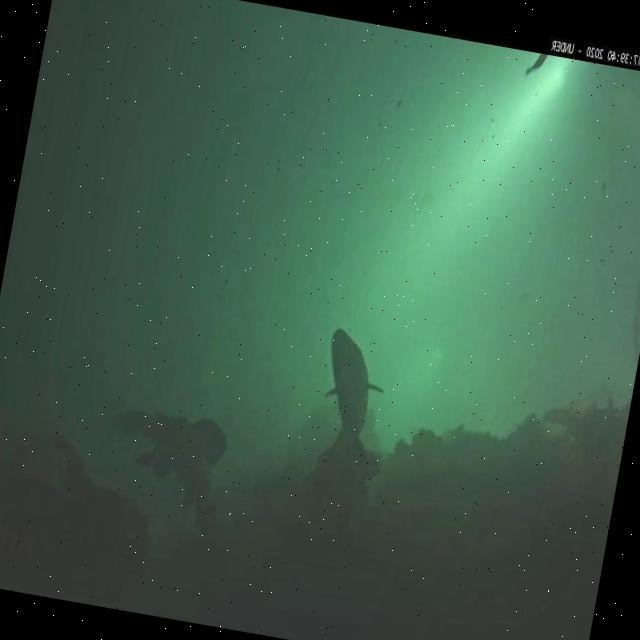fish: (317, 326, 395, 434)
